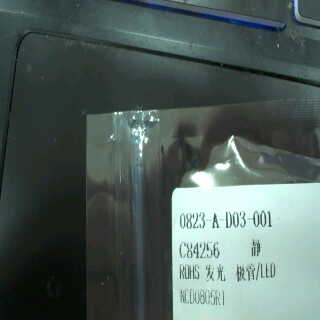LED: (204, 261, 280, 286)
